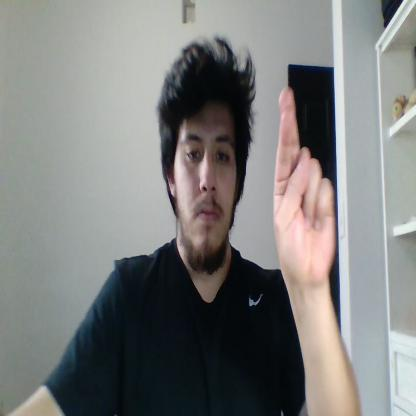R: (273, 86, 335, 285)
